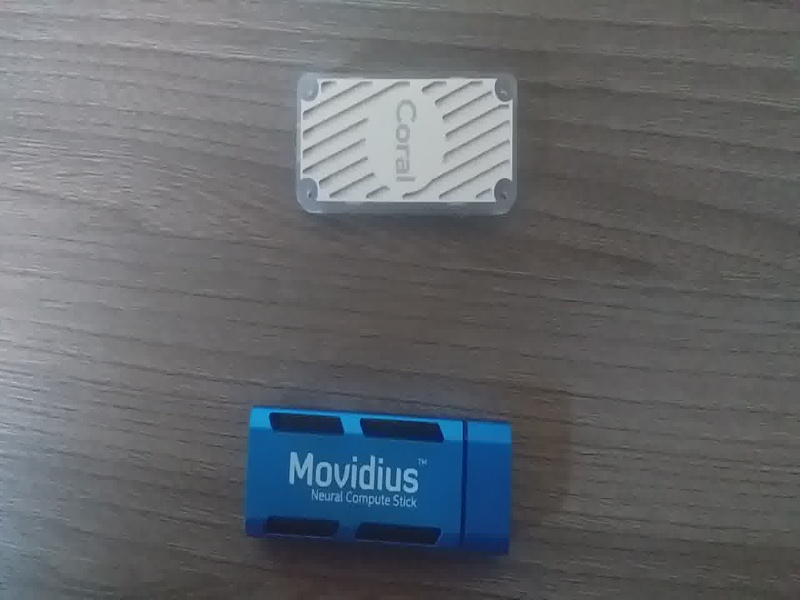coral: (280, 63, 540, 241)
movidius: (234, 393, 534, 565)
